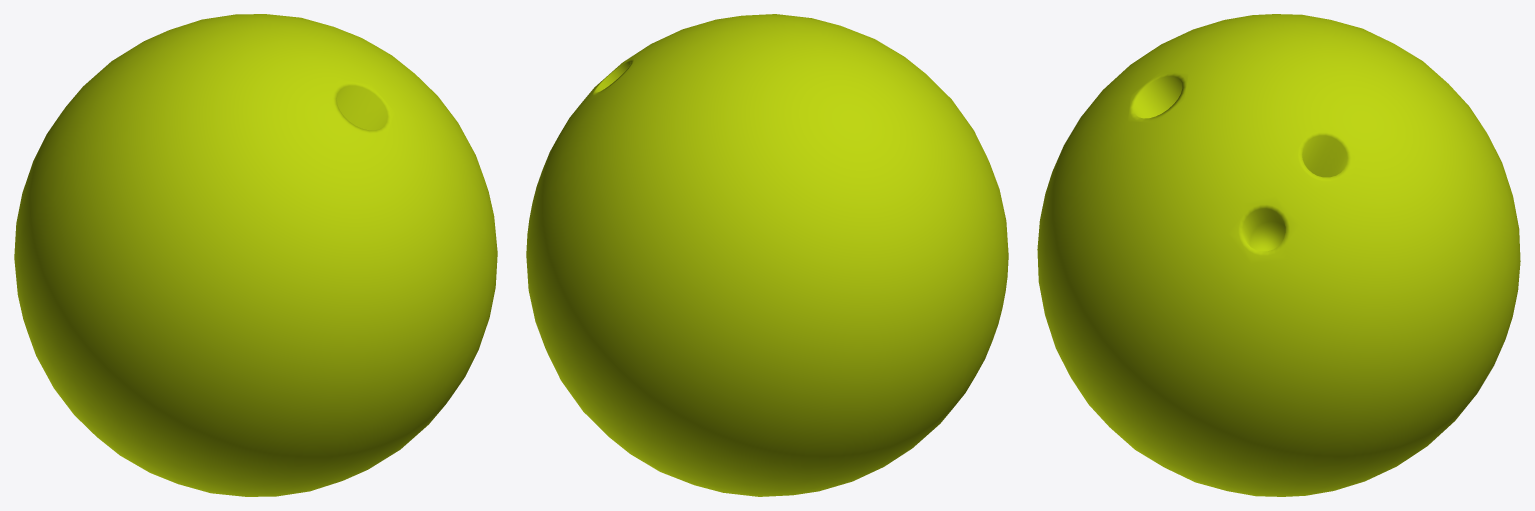
The model's file is BowlingBall 2.fbx.
The picture shows the model from 3 angles, left to right: view 1: azimuth 30°, elevation 25°; view 2: azimuth 150°, elevation 25°; view 3: azimuth 270°, elevation 25°; orthographic projection.
Parts seen in each view (by area): view 1: BowlingBall; view 2: BowlingBall; view 3: BowlingBall.
Boxes of the visible parts, left/top/right/bottom form: BowlingBall: left=14, top=14, right=497, bottom=496; BowlingBall: left=526, top=14, right=1008, bottom=496; BowlingBall: left=1037, top=14, right=1520, bottom=496.
Size of the model in its own units: 217000 by 217000 by 217000.
